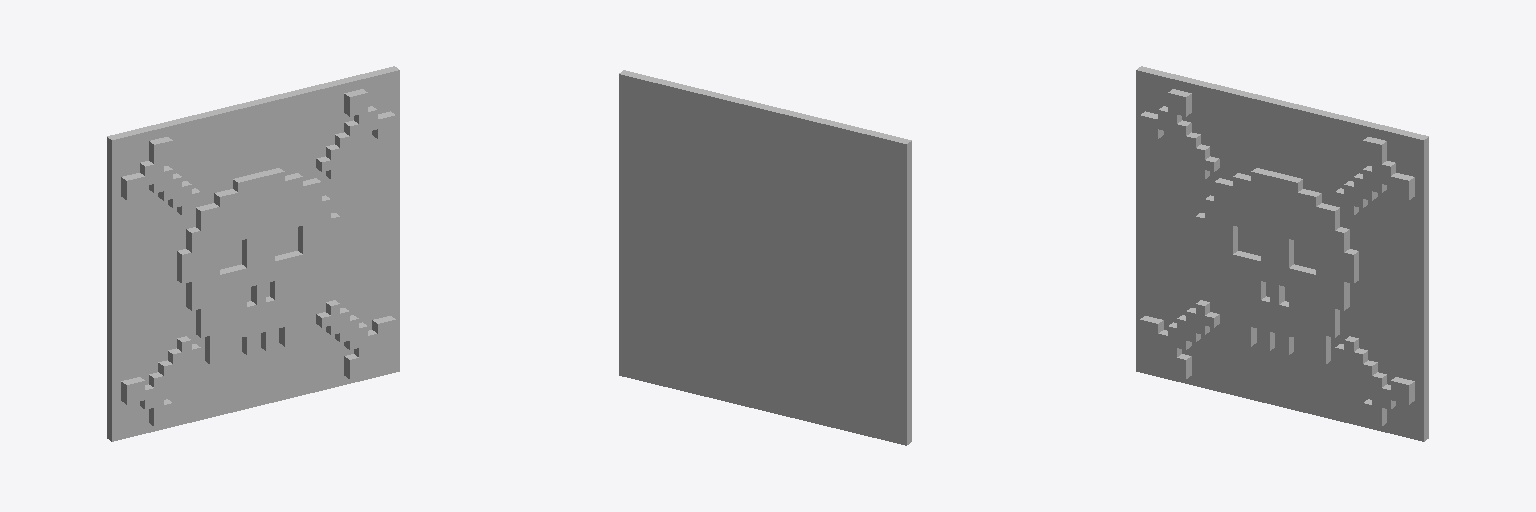
File: pirata.obj
The picture shows the model from 3 angles: view 1: azimuth 30°, elevation 25°; view 2: azimuth 150°, elevation 25°; view 3: azimuth 330°, elevation 25°; orthographic projection.
Parts seen in each view (by area): view 1: pirata; view 2: pirata; view 3: pirata.
Boxes of the visible parts, x1,y1,x2,y2 form: pirata: [107, 66, 399, 441]; pirata: [619, 70, 911, 445]; pirata: [1136, 66, 1428, 441].
Bounding box in the file's own units: 31 × 31 × 2.